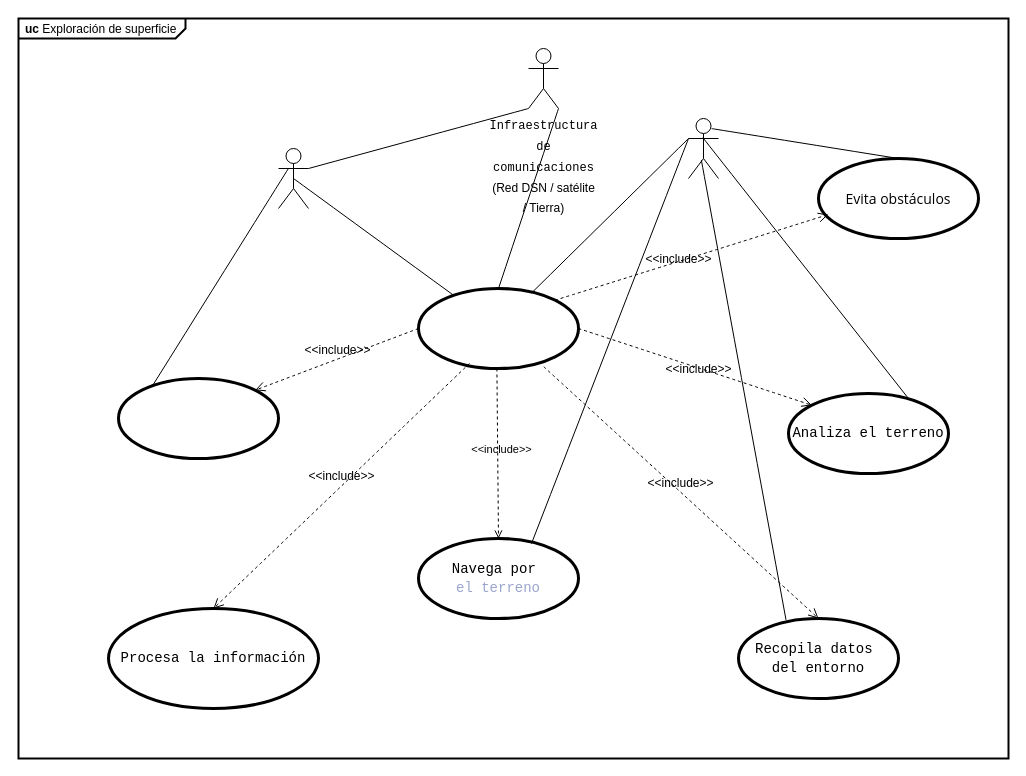
Some shapes in this 1026 by 776 pixel diagram are drawn without their labels. The shapes that lost their labels are listed below. From the top down, each one's centre as x and y in pixels, then its label:
the point at 703,148: Entorno Físico
the point at 293,178: Operador (Control Misión)
the point at 498,328: Exploración de superficie
the point at 198,418: Comunica con operador
